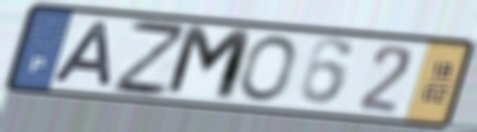2: (353, 43, 414, 116)
6: (295, 34, 357, 113)
A: (49, 19, 114, 89)
M: (161, 23, 257, 106)
O: (236, 33, 299, 105)
Z: (108, 16, 189, 98)
